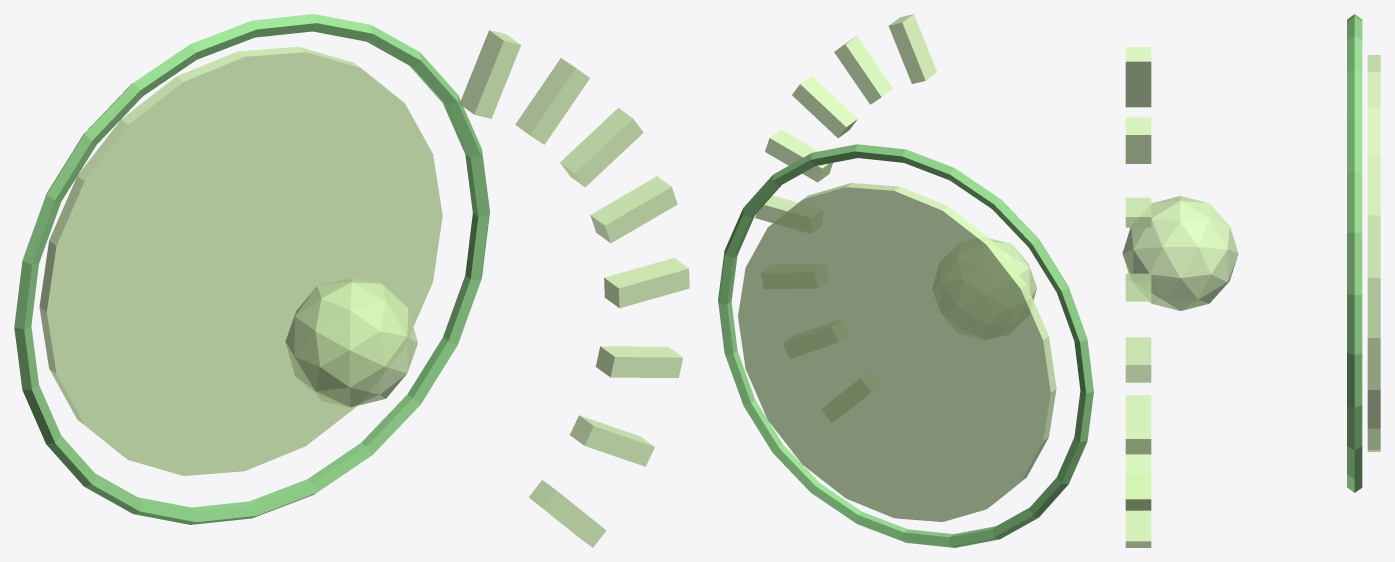
Rendered from 01_class_special_attack_vfx.glb.
The picture shows the model from 3 angles, left to right: view 1: azimuth 30°, elevation 25°; view 2: azimuth 150°, elevation 25°; view 3: azimuth 270°, elevation 25°; orthographic projection. The views are drawn at different scales.
Visible parts, largest first — view 1: ability_cast_disc, ability_outer_ring, class_energy_core, attack_flow_arc_seg_7, attack_flow_arc_seg_5, attack_flow_arc_seg_6, attack_flow_arc_seg_4, attack_flow_arc_seg_3, attack_flow_arc_seg_2, attack_flow_arc_seg_1, attack_flow_arc_seg_0; view 2: ability_cast_disc, ability_outer_ring, attack_flow_arc_seg_7, attack_flow_arc_seg_5, attack_flow_arc_seg_6, attack_flow_arc_seg_4, class_energy_core, attack_flow_arc_seg_3; view 3: class_energy_core, ability_outer_ring, ability_cast_disc, attack_flow_arc_seg_7, attack_flow_arc_seg_2, attack_flow_arc_seg_1, attack_flow_arc_seg_6, attack_flow_arc_seg_3, attack_flow_arc_seg_0, attack_flow_arc_seg_5, attack_flow_arc_seg_4.
Boxes of the visible parts, bbox=[...] form: ability_cast_disc: bbox=[39, 46, 442, 475]; ability_outer_ring: bbox=[14, 14, 489, 524]; class_energy_core: bbox=[285, 277, 417, 407]; attack_flow_arc_seg_7: bbox=[459, 30, 520, 118]; attack_flow_arc_seg_5: bbox=[560, 108, 643, 187]; attack_flow_arc_seg_6: bbox=[515, 58, 589, 144]; attack_flow_arc_seg_4: bbox=[590, 176, 677, 242]; attack_flow_arc_seg_3: bbox=[604, 258, 689, 308]; attack_flow_arc_seg_2: bbox=[595, 346, 682, 377]; attack_flow_arc_seg_1: bbox=[570, 415, 654, 466]; attack_flow_arc_seg_0: bbox=[528, 480, 606, 547]; ability_cast_disc: bbox=[738, 183, 1056, 521]; ability_outer_ring: bbox=[718, 144, 1093, 547]; attack_flow_arc_seg_7: bbox=[888, 14, 937, 83]; attack_flow_arc_seg_5: bbox=[792, 75, 857, 137]; attack_flow_arc_seg_6: bbox=[834, 36, 893, 104]; attack_flow_arc_seg_4: bbox=[765, 129, 832, 182]; class_energy_core: bbox=[990, 238, 1036, 300]; attack_flow_arc_seg_3: bbox=[755, 195, 798, 222]; class_energy_core: bbox=[1122, 196, 1238, 310]; ability_outer_ring: bbox=[1347, 14, 1362, 492]; ability_cast_disc: bbox=[1367, 55, 1380, 451]; attack_flow_arc_seg_7: bbox=[1125, 47, 1151, 107]; attack_flow_arc_seg_2: bbox=[1125, 395, 1151, 454]; attack_flow_arc_seg_1: bbox=[1125, 454, 1151, 510]; attack_flow_arc_seg_6: bbox=[1125, 117, 1151, 163]; attack_flow_arc_seg_3: bbox=[1125, 337, 1151, 382]; attack_flow_arc_seg_0: bbox=[1125, 510, 1151, 547]; attack_flow_arc_seg_5: bbox=[1125, 197, 1151, 227]; attack_flow_arc_seg_4: bbox=[1125, 273, 1151, 301].
Bounding box in the file's own units: 1.71 × 1.63 × 0.8.
